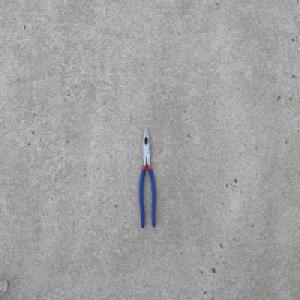Pliers: (138, 125, 156, 229)
